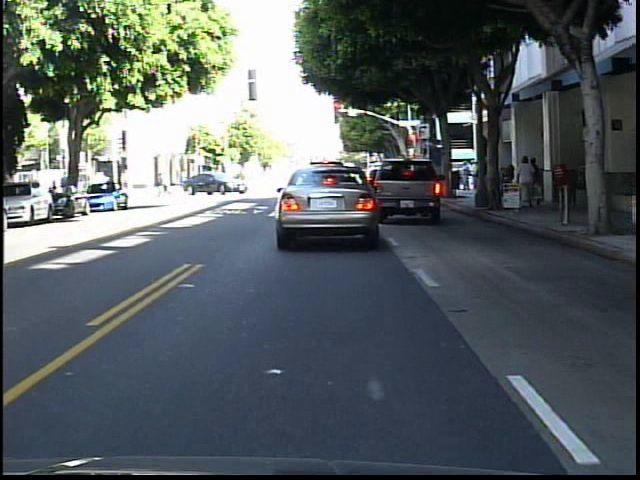person: (518, 154, 538, 209), (531, 154, 545, 208), (59, 169, 78, 206)
